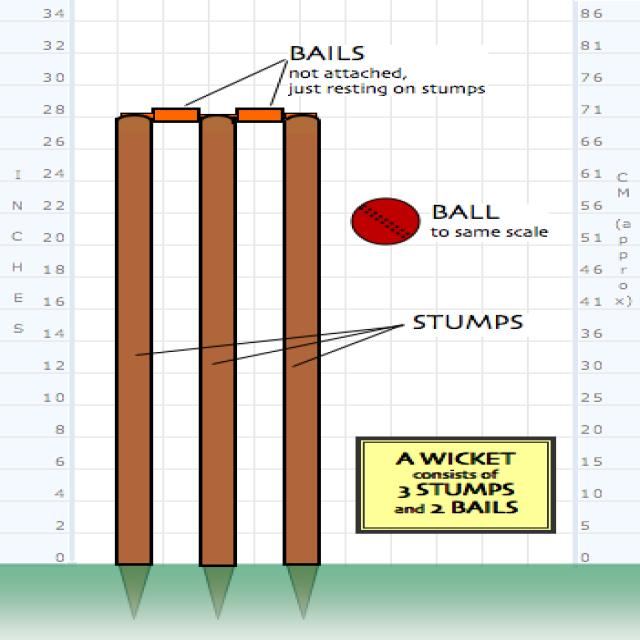stump: (114, 108, 318, 613)
